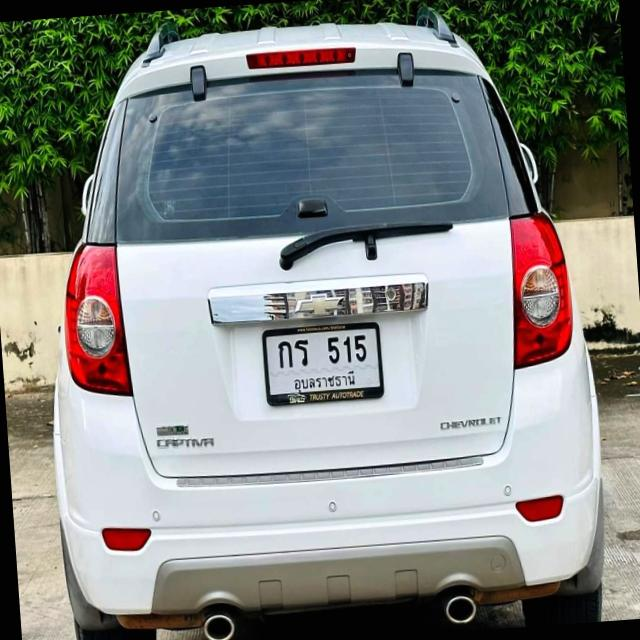license_plate: (260, 320, 386, 408)
